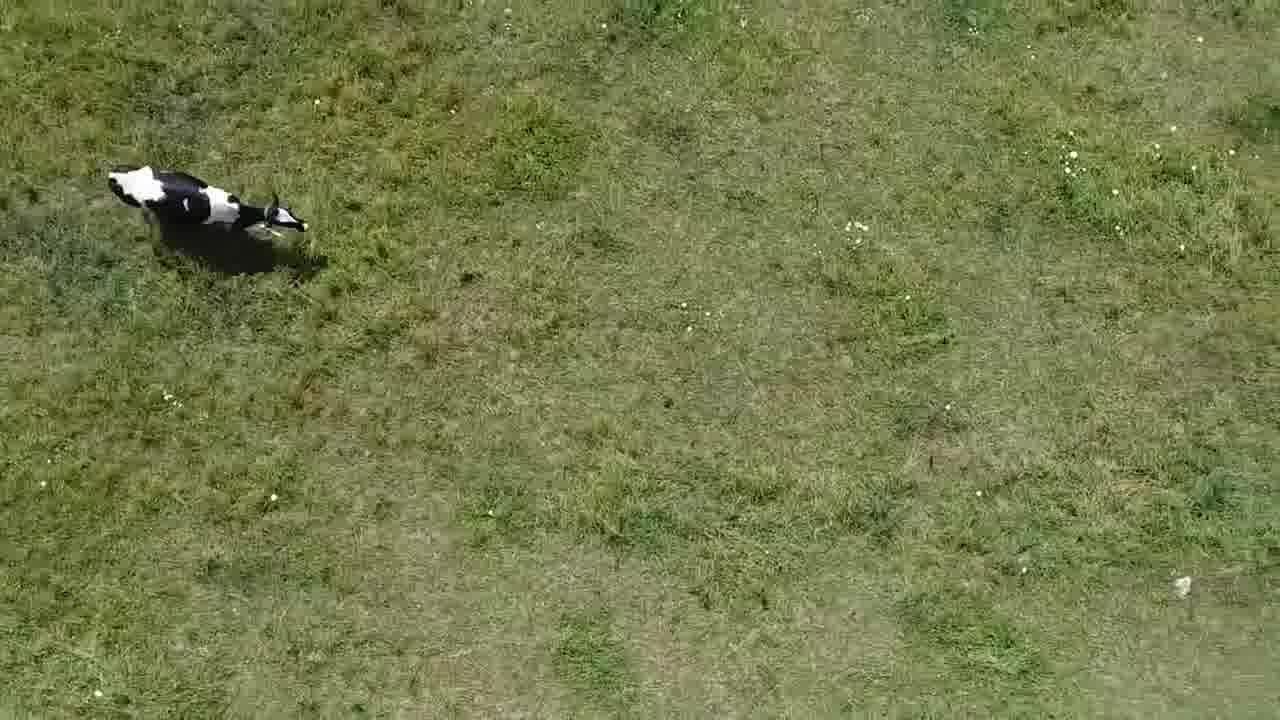cow: (104, 158, 315, 248)
